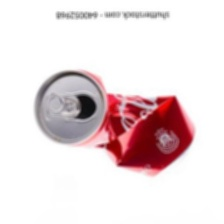can: (24, 63, 201, 181)
